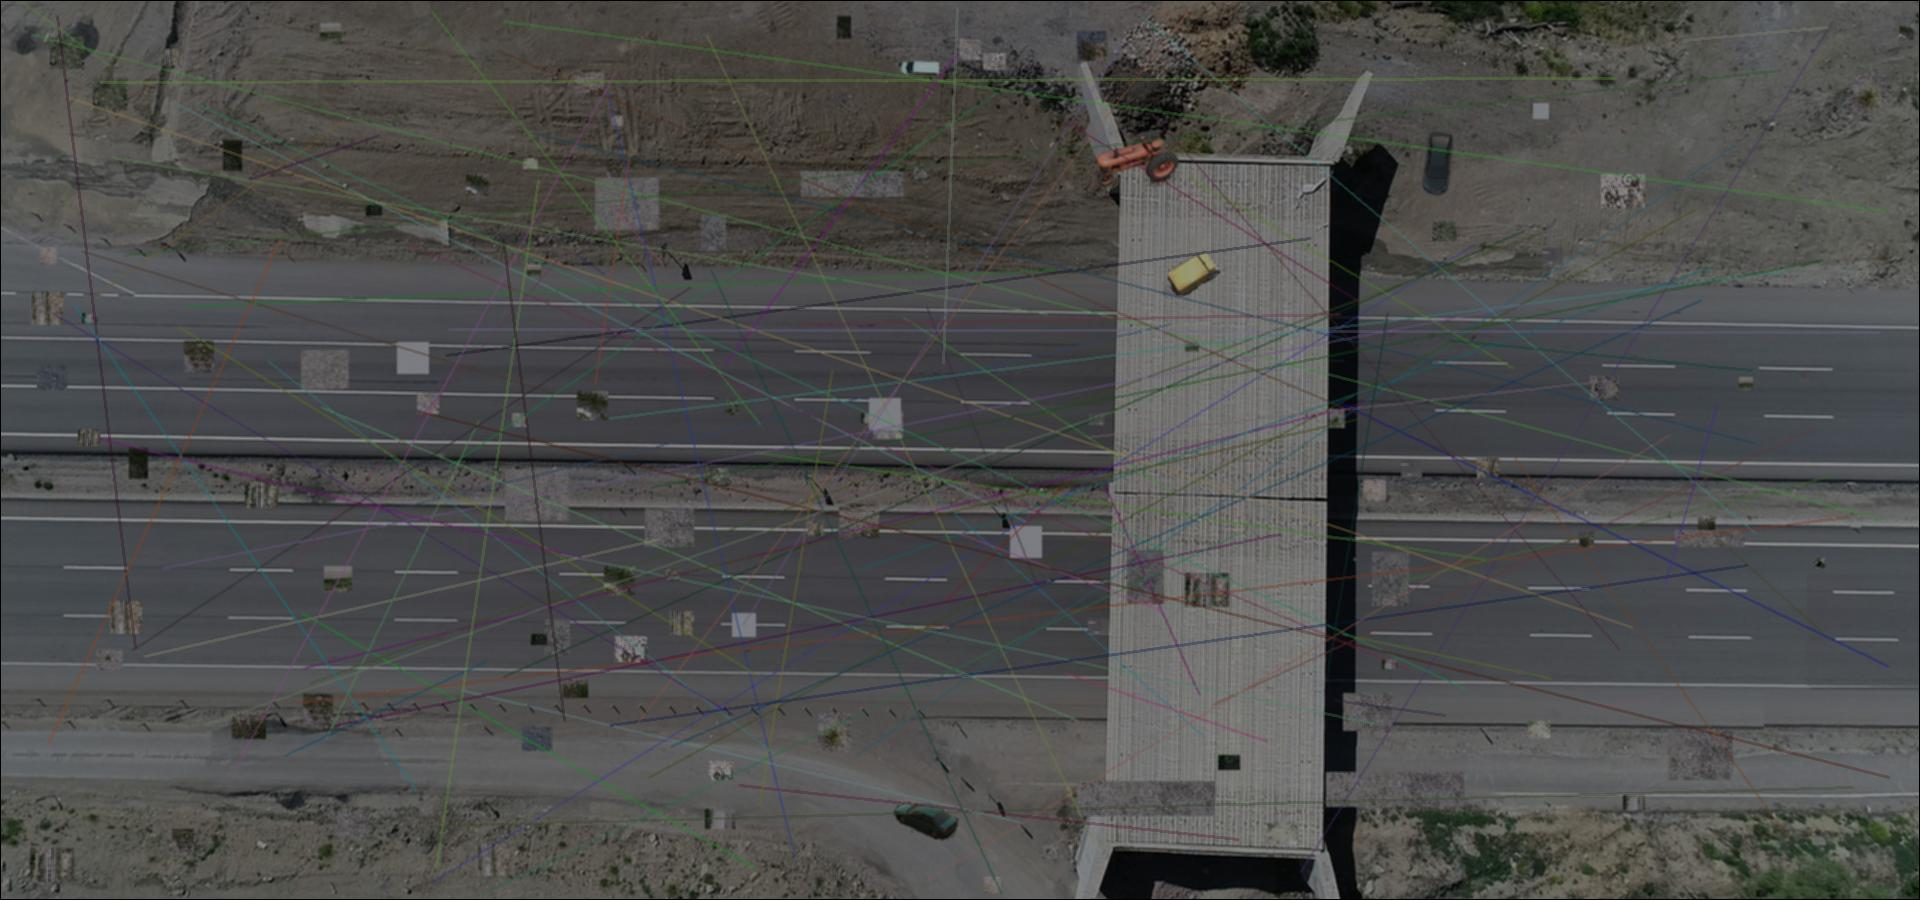arac: (1091, 130, 1180, 189), (1412, 129, 1453, 197), (891, 798, 959, 840), (1168, 249, 1221, 296), (900, 60, 940, 77)
